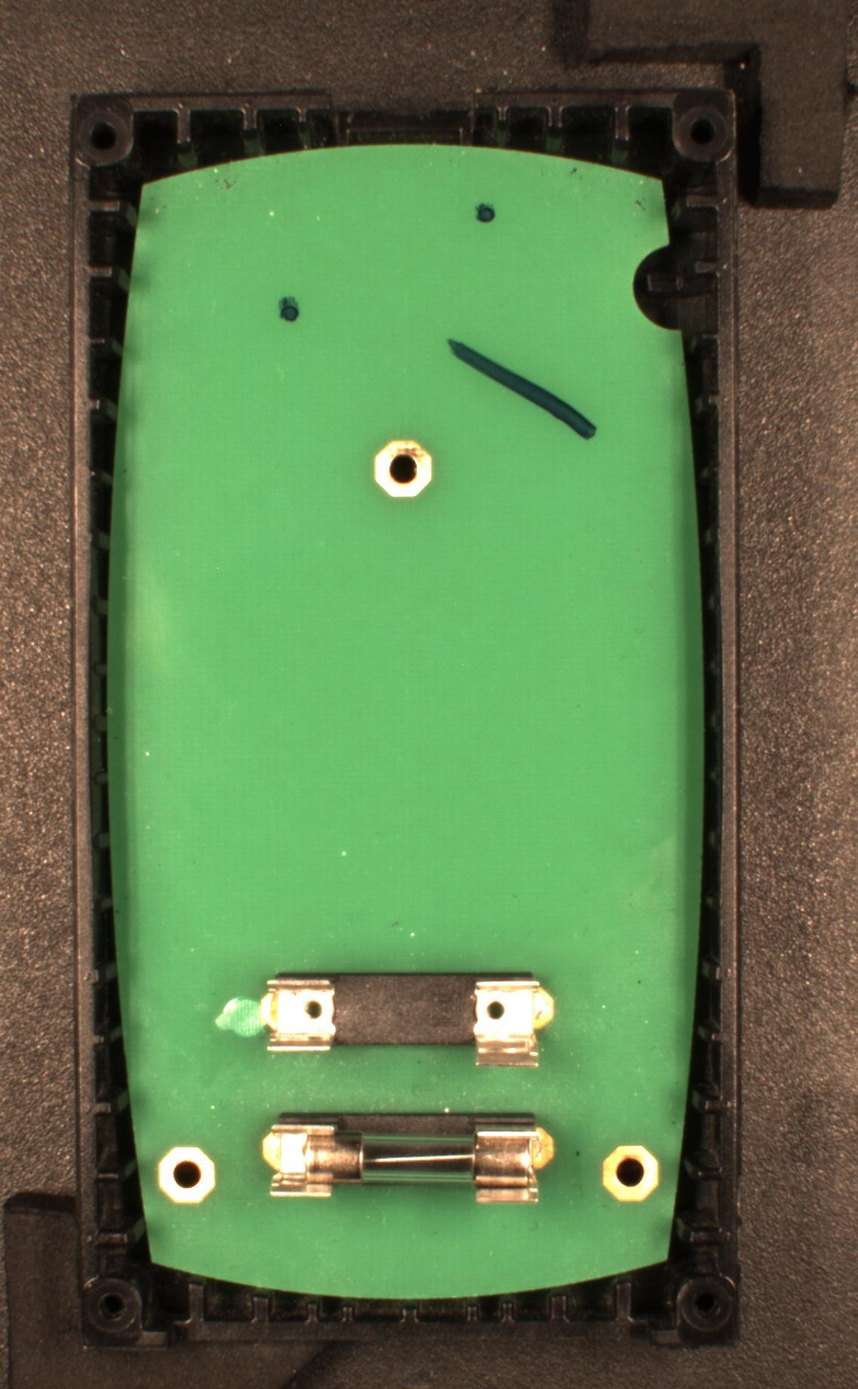Linijsko Ostecene: (444, 334, 600, 443)
Nepostojanje osiguraca: (258, 969, 556, 1070)
Tockasto Ostecenje: (275, 293, 305, 323), (471, 198, 501, 226)
